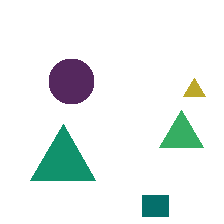circle: (49, 59, 93, 103)
rectangle: (142, 195, 168, 216)
triangle: (30, 124, 95, 180), (159, 110, 203, 147), (183, 78, 205, 96)
